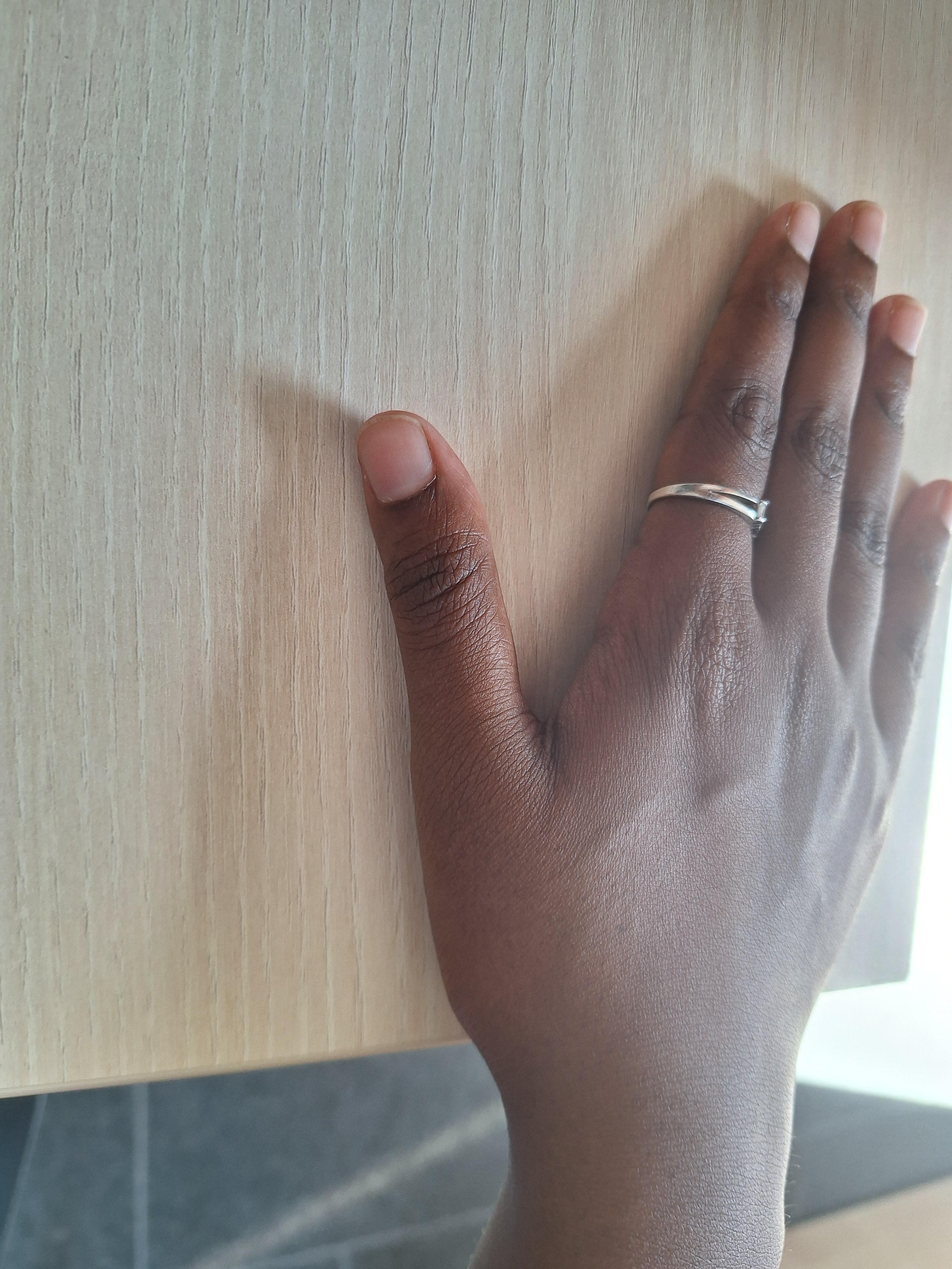Fingernail: (358, 418, 434, 506), (851, 202, 887, 265), (890, 297, 927, 357), (788, 202, 821, 262)
